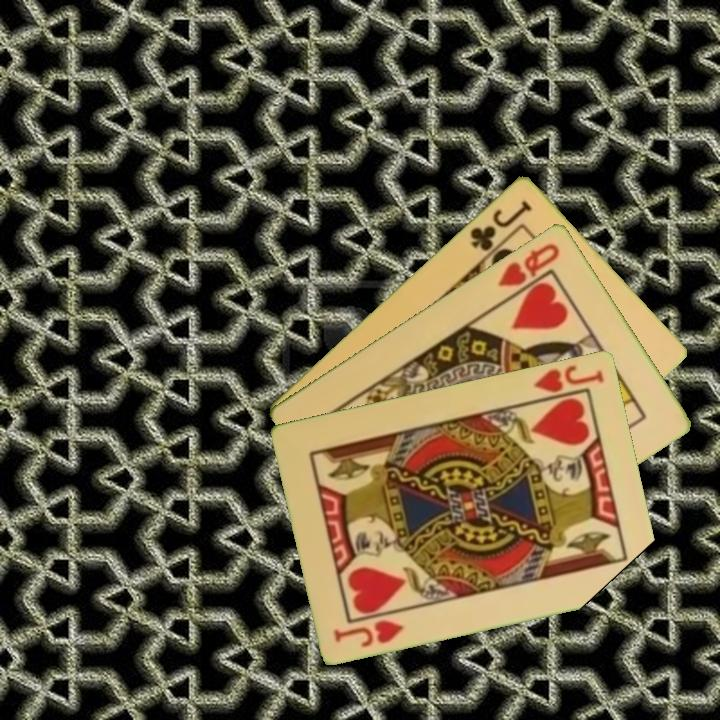Jc: (466, 196, 535, 254)
Jh: (330, 615, 407, 650), (531, 361, 607, 395)
Qh: (494, 239, 563, 289)
